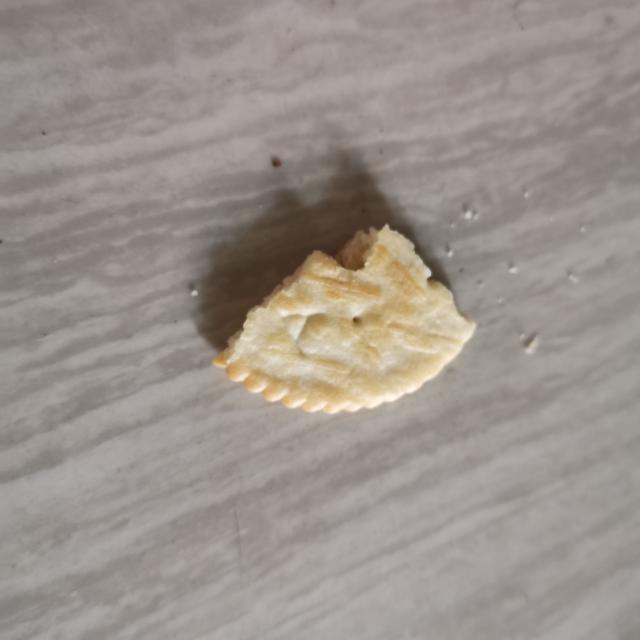Broken: (212, 222, 476, 415)
